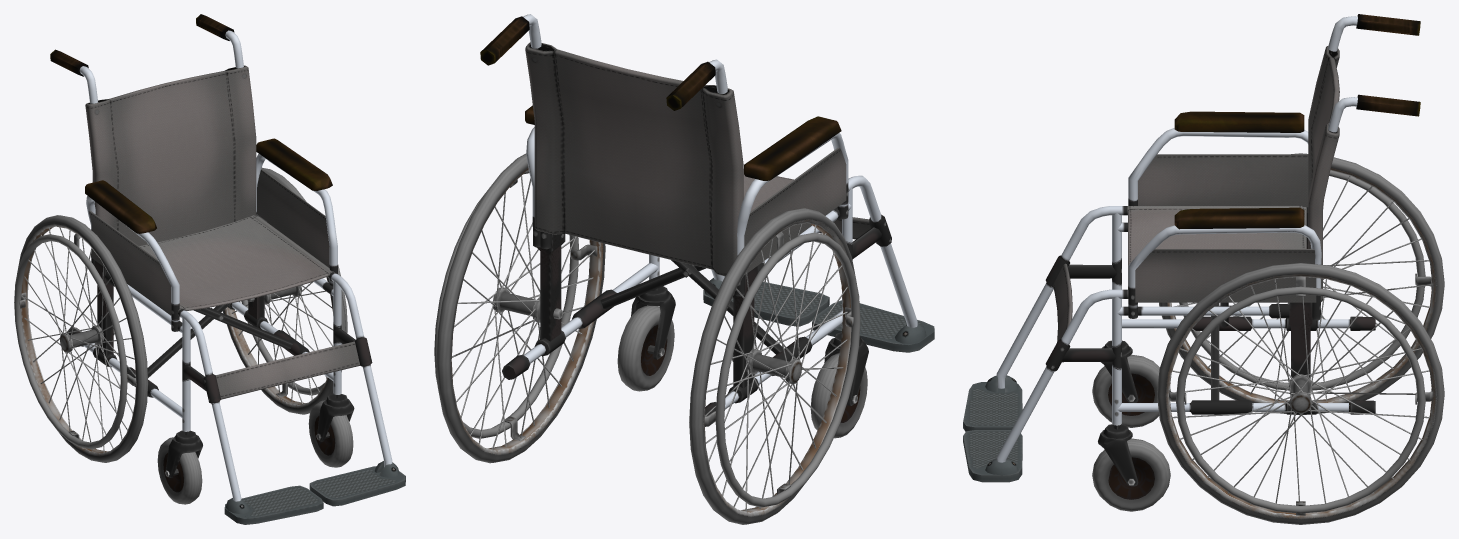
The model's file is Wheelchair.FBX.
3 renders of one model, left to right at view 1: azimuth 30°, elevation 25°; view 2: azimuth 150°, elevation 25°; view 3: azimuth 270°, elevation 25°, orthographic. The views are drawn at different scales.
Parts seen in each view (by area): view 1: Object003, Object056, Object057, Object054, Object053, Object052, Object055; view 2: Object003, Object056, Object057, Object053, Object054, Object052, Object055; view 3: Object003, Object057, Object056, Object053, Object054, Object052, Object055.
Part boxes in pixels (x1,y1,x2,y2): Object003: (50, 14, 405, 524); Object056: (14, 215, 148, 462); Object057: (222, 167, 347, 414); Object054: (157, 437, 202, 504); Object053: (308, 400, 353, 467); Object052: (316, 393, 354, 441); Object055: (165, 430, 202, 477); Object003: (480, 14, 934, 416); Object056: (689, 208, 860, 524); Object057: (434, 153, 605, 463); Object053: (617, 305, 674, 391); Object054: (810, 353, 867, 438); Object052: (631, 286, 675, 359); Object055: (824, 332, 868, 405); Object003: (963, 14, 1420, 482); Object057: (1157, 263, 1444, 524); Object056: (1159, 153, 1444, 415); Object053: (1092, 438, 1170, 511); Object054: (1092, 354, 1170, 427); Object052: (1098, 424, 1138, 486); Object055: (1101, 340, 1138, 402).
Bounding box in the file's own units: 58.98 × 87.64 × 92.13.
